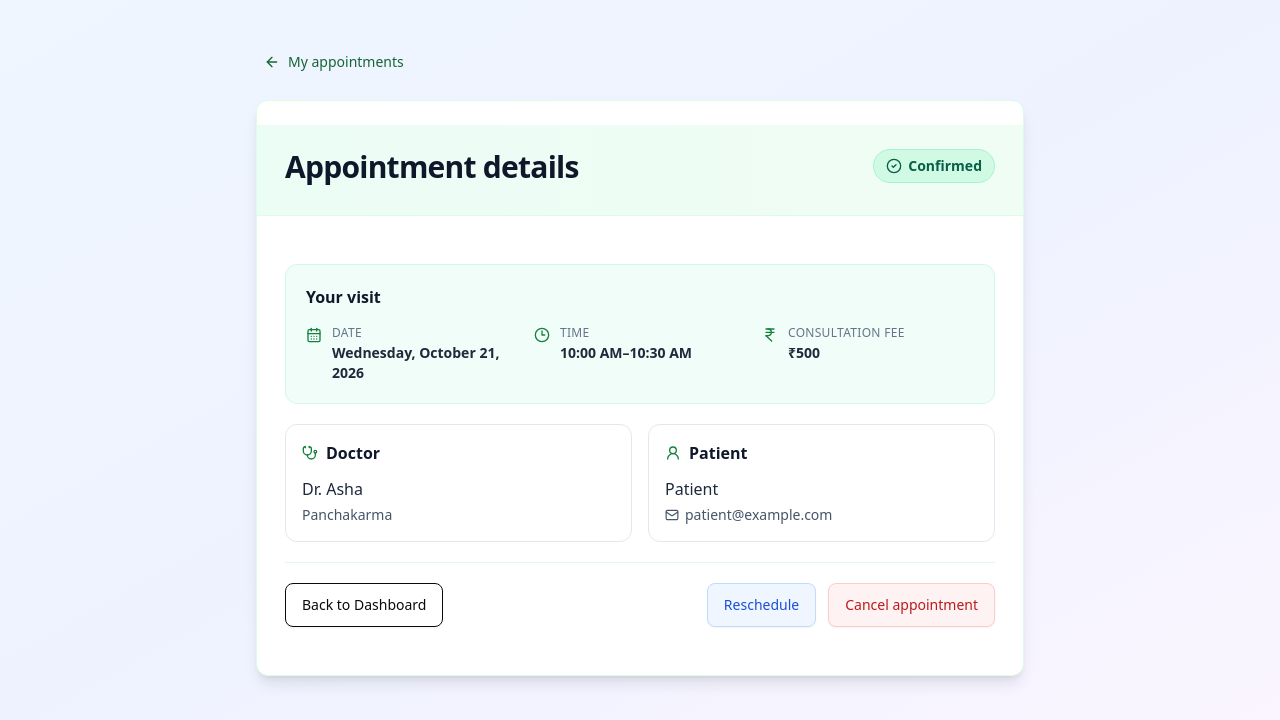
Test case: Appointment cancellation UI › shows the slot-release message and requires confirmation for early cancellation
Click the button "Cancel appointment".
click(912, 605)  # box [828, 583, 995, 627]
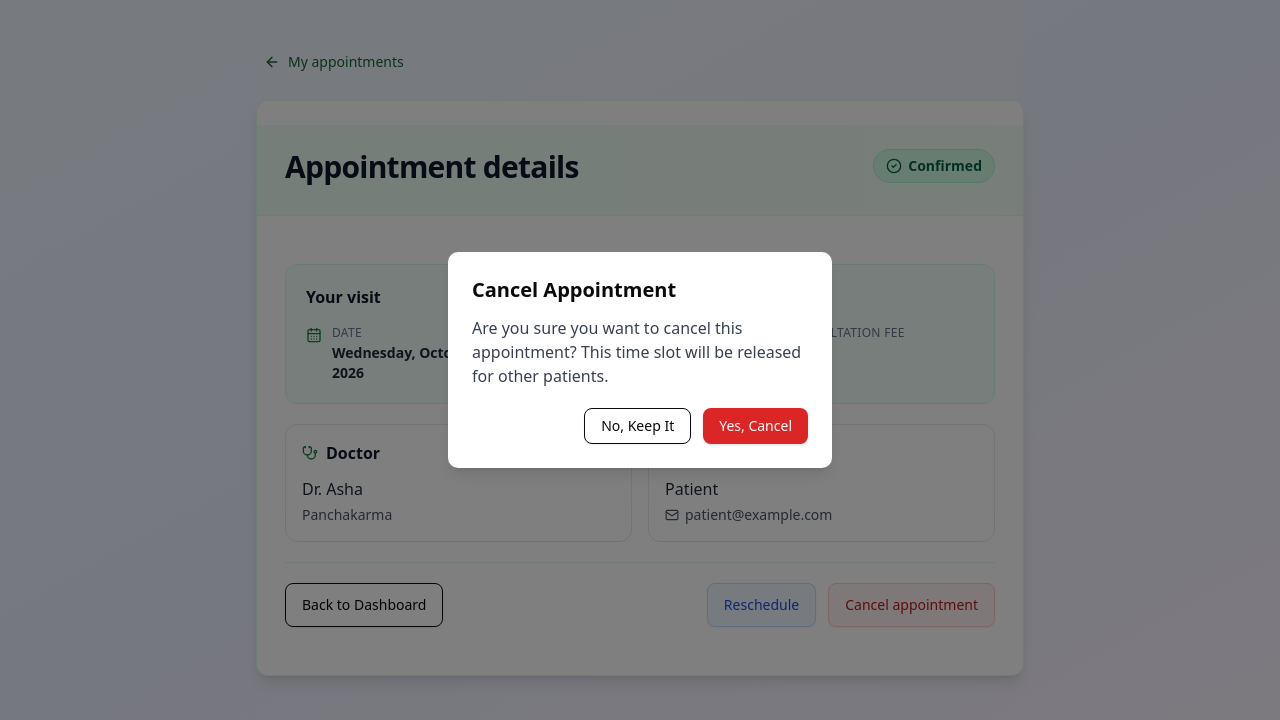
Result: the text "This time slot will be released for other patients" is shown at [472, 341, 801, 387]
Click the button "No, Keep It".
click(638, 426)  # box [584, 408, 691, 444]
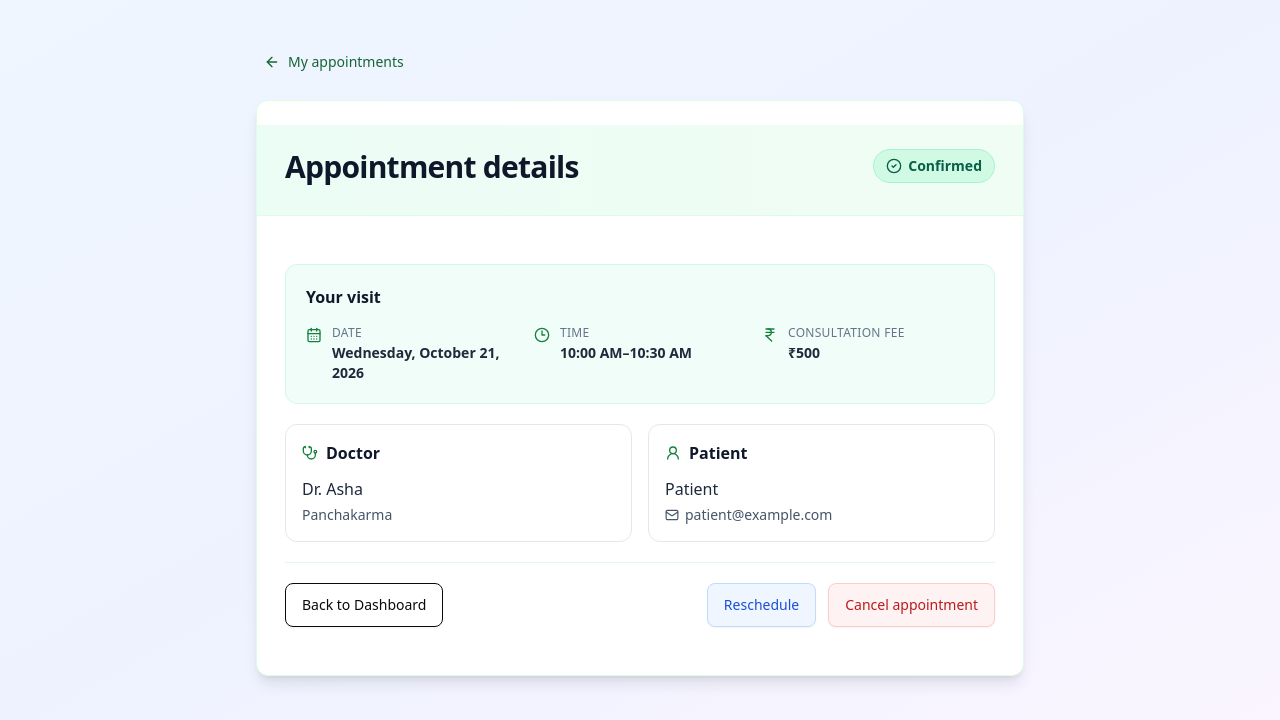
Click the button "Cancel appointment".
click(912, 605)  # box [828, 583, 995, 627]
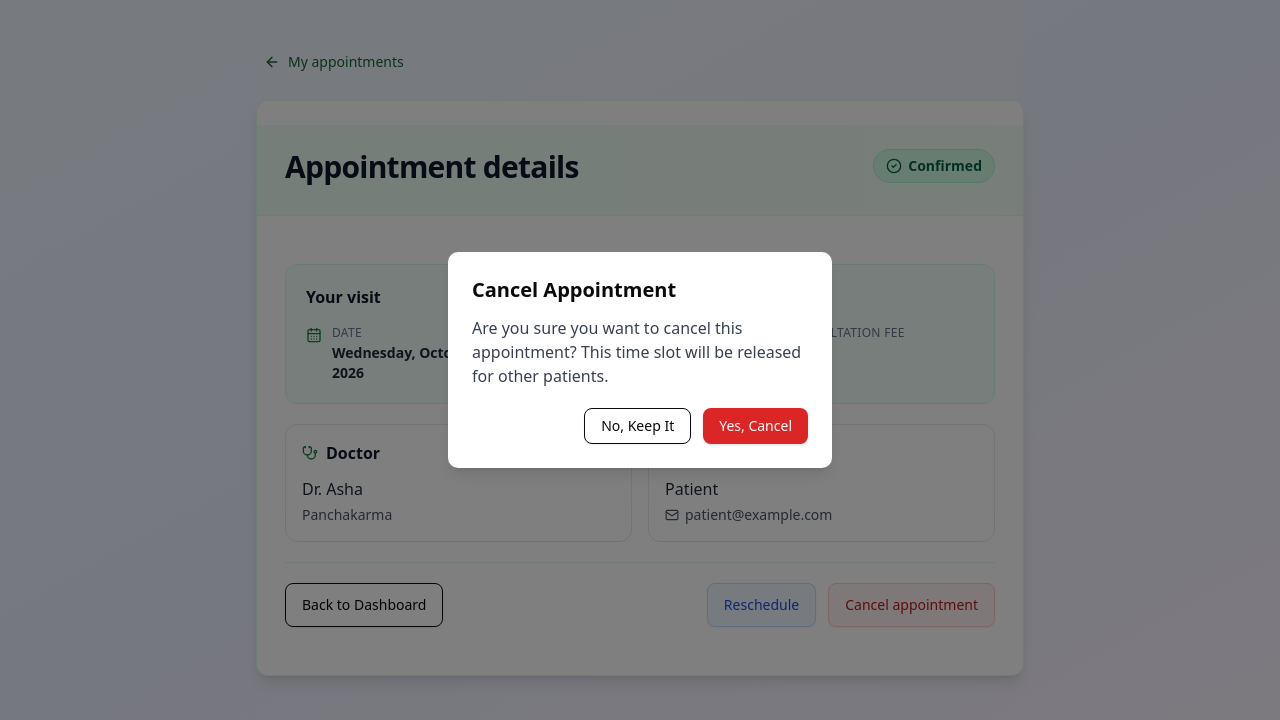
Click the button "Yes, Cancel".
click(756, 426)  # box [703, 408, 808, 444]
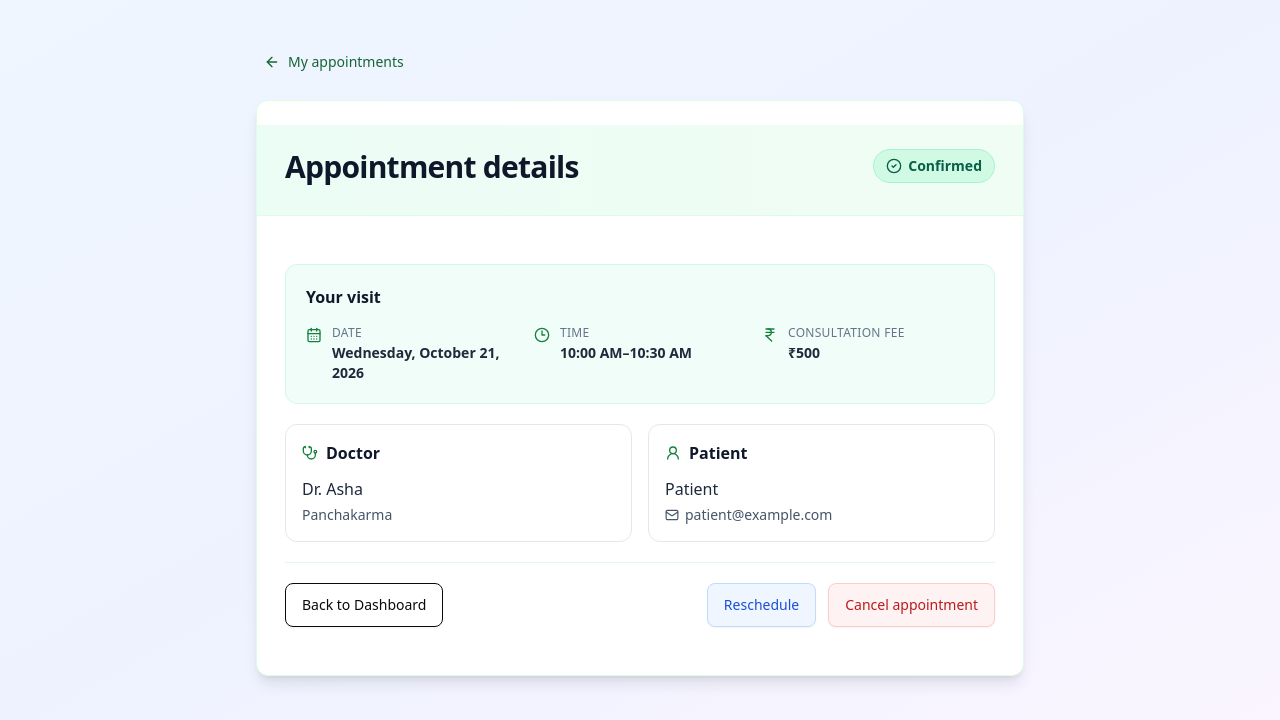
Result: the button "Yes, Cancel" is gone
